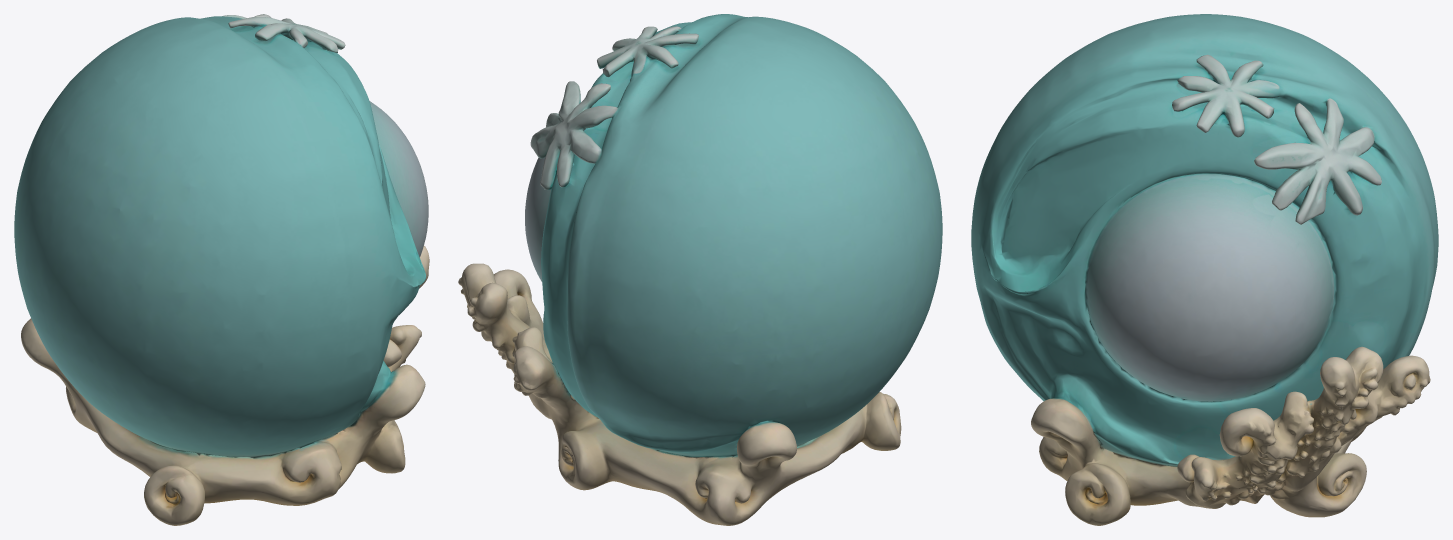
File: bubble.glb
3 views of the same model, side by side, from view 1: azimuth 30°, elevation 25°; view 2: azimuth 150°, elevation 25°; view 3: azimuth 270°, elevation 25° (orthographic). The views are drawn at different scales.
Visible parts, largest first — view 1: tripo_node_96b68d47-e517-4893-83c2-00c938c0887f; view 2: tripo_node_96b68d47-e517-4893-83c2-00c938c0887f; view 3: tripo_node_96b68d47-e517-4893-83c2-00c938c0887f.
Boxes of the visible parts, box(x1,y1,x2,y2) form: tripo_node_96b68d47-e517-4893-83c2-00c938c0887f: box(14, 14, 429, 525); tripo_node_96b68d47-e517-4893-83c2-00c938c0887f: box(458, 14, 942, 525); tripo_node_96b68d47-e517-4893-83c2-00c938c0887f: box(971, 14, 1438, 525).
Size of the model in its own units: 0.9607 by 0.9806 by 0.9467.
1 material, 1 textured.
